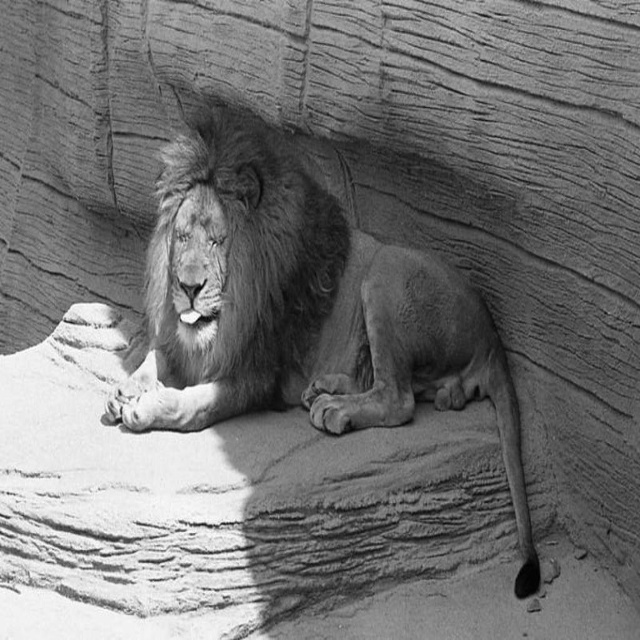Lion: (102, 107, 544, 598)
